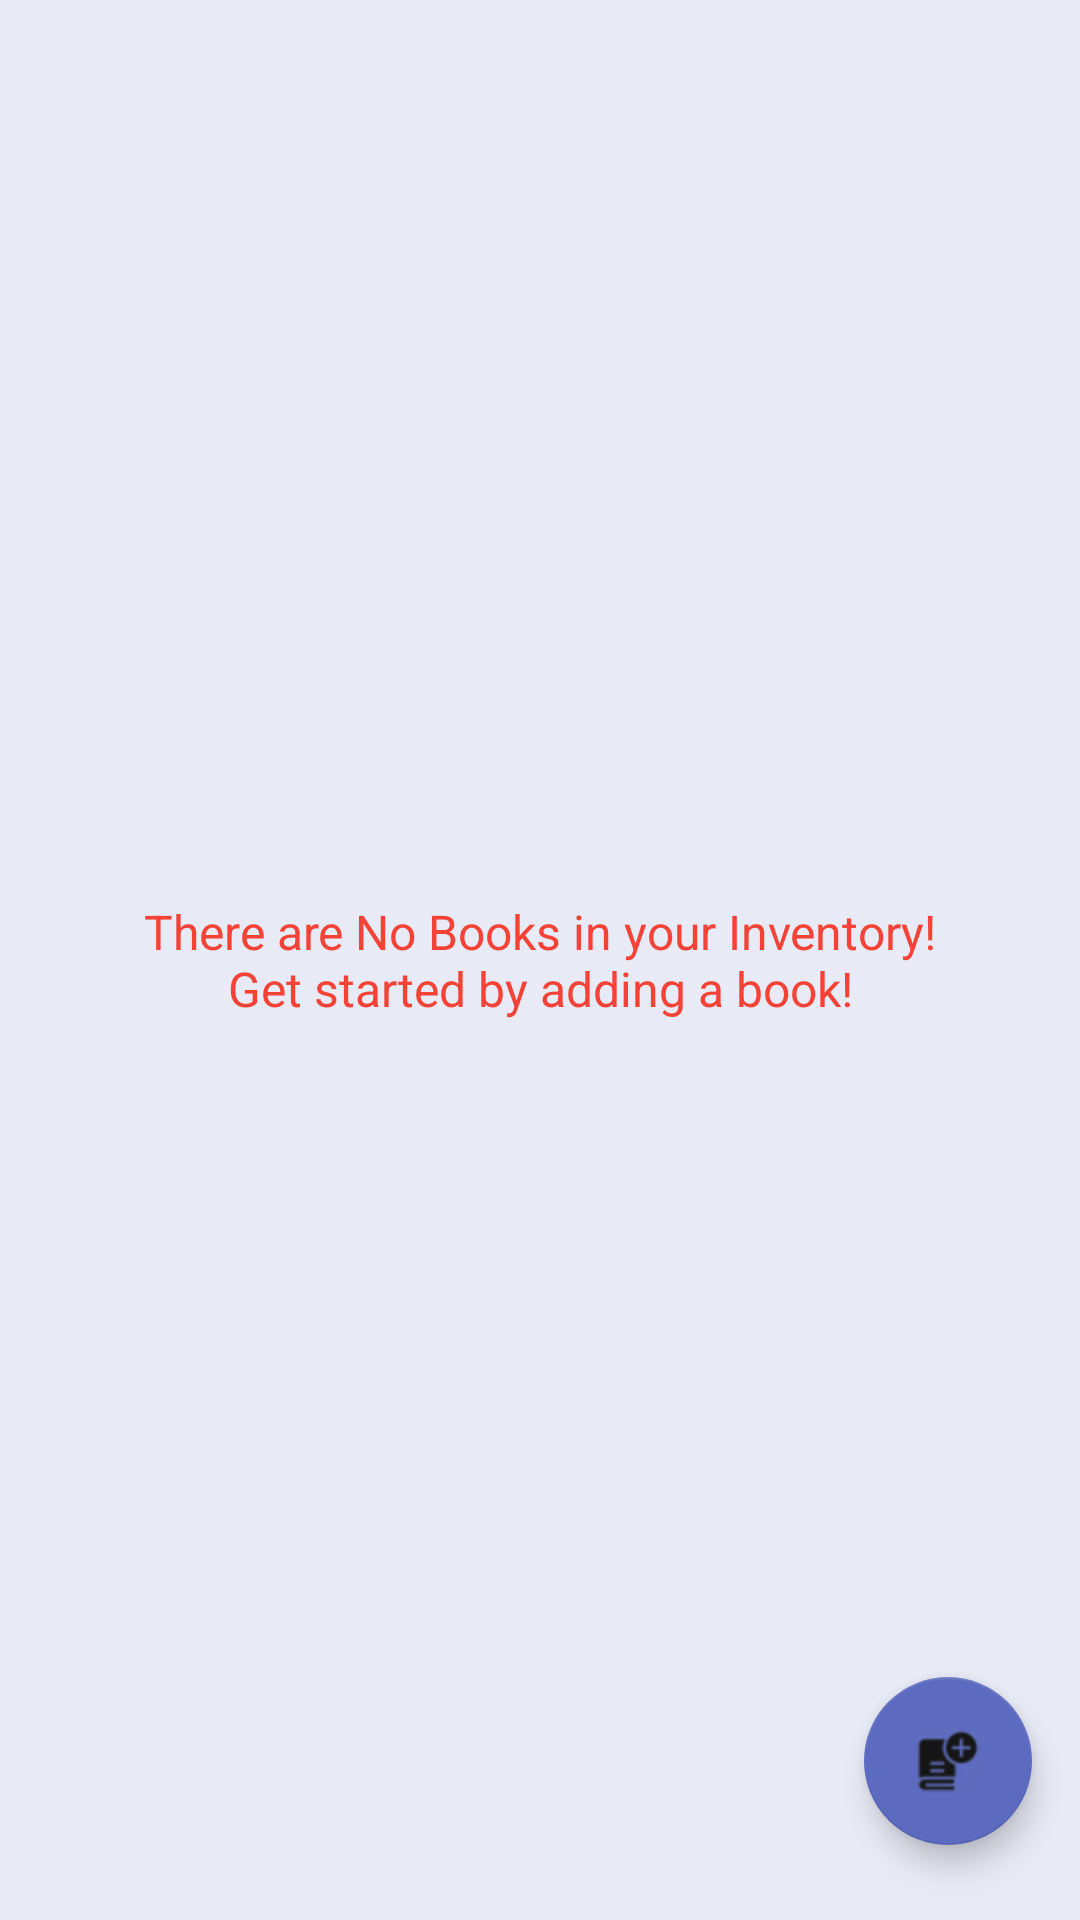

Named icons in this screenshot (1080 × 1920) and their bounding boxes, box(x1, y1, x2, y2):
add book: box(864, 1677, 1032, 1845)
